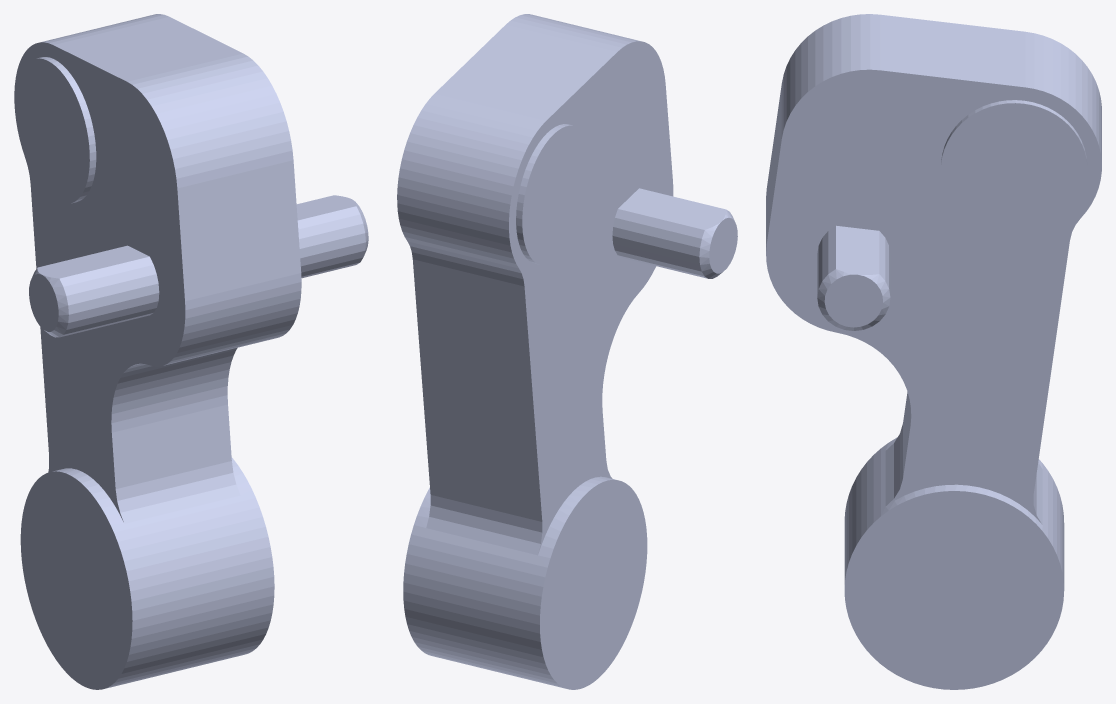
File: robotiq_arg2f_85_outer_knuckle.dae
The picture shows the model from 3 angles, left to right: view 1: azimuth 30°, elevation 25°; view 2: azimuth 150°, elevation 25°; view 3: azimuth 270°, elevation 25°; orthographic projection. The views are drawn at different scales.
Visible parts, largest first — view 1: node; view 2: node; view 3: node.
Part boxes in pixels (box(x1,y1,x2,y2)): node: box(14, 14, 368, 689); node: box(397, 14, 737, 689); node: box(766, 14, 1101, 689).
Bounding box in the file's own units: 24 × 46.27 × 22.94.
